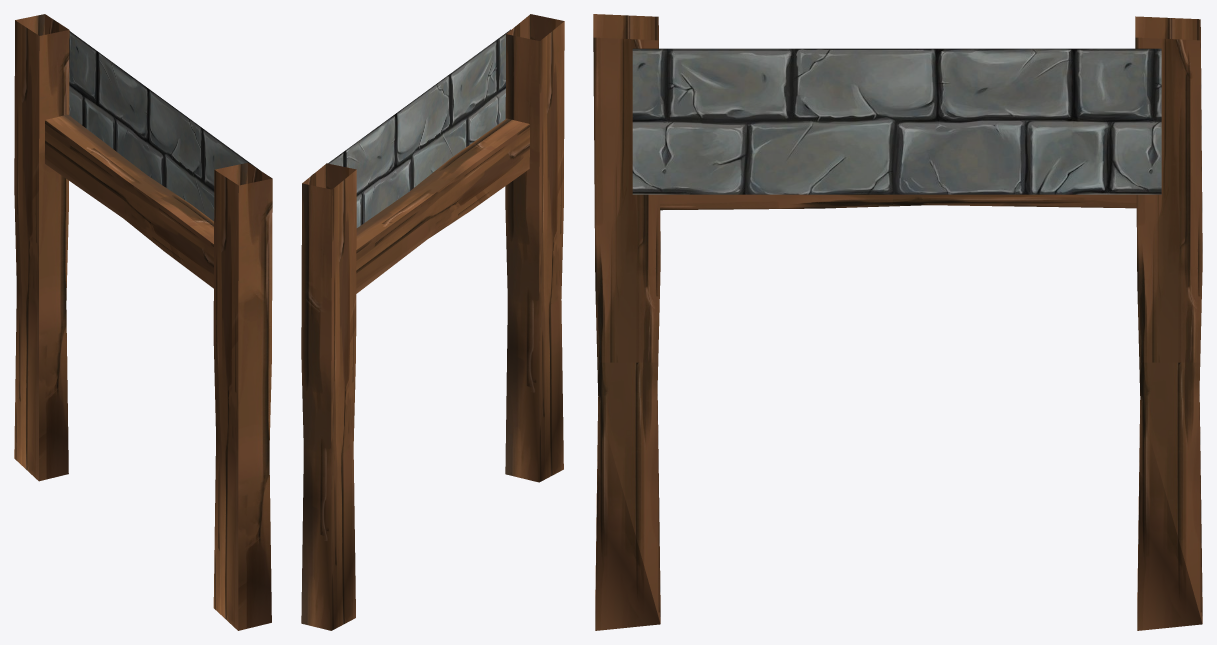
The model's file is Door_Way.fbx.
The picture shows the model from 3 angles, left to right: view 1: azimuth 30°, elevation 25°; view 2: azimuth 150°, elevation 25°; view 3: azimuth 270°, elevation 25°; orthographic projection. The views are drawn at different scales.
Visible parts, largest first — view 1: 1_Doorway; view 2: 1_Doorway; view 3: 1_Doorway.
Boxes of the visible parts, left/top/right/bottom form: 1_Doorway: left=14, top=14, right=272, bottom=630; 1_Doorway: left=301, top=14, right=564, bottom=630; 1_Doorway: left=593, top=14, right=1202, bottom=630.
Size of the model in its own units: 28.68 by 315 by 293.
